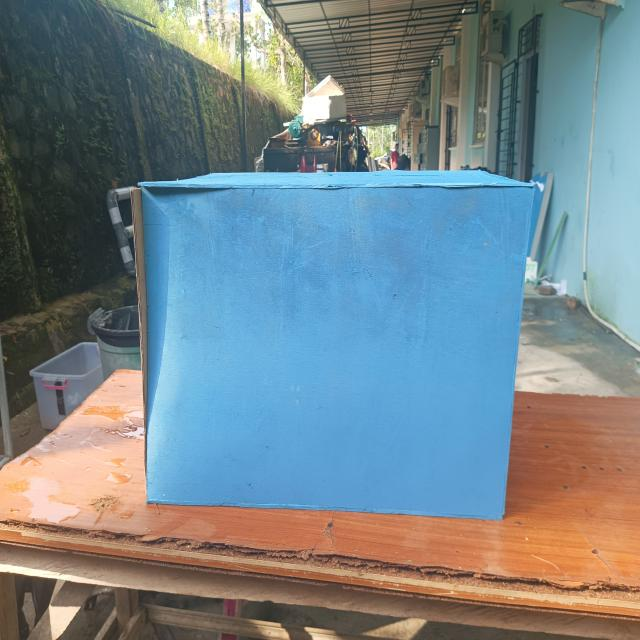blue_box: (130, 172, 534, 523)
